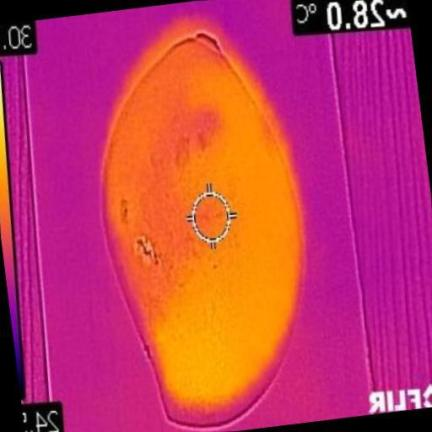mango: (105, 34, 302, 425)
